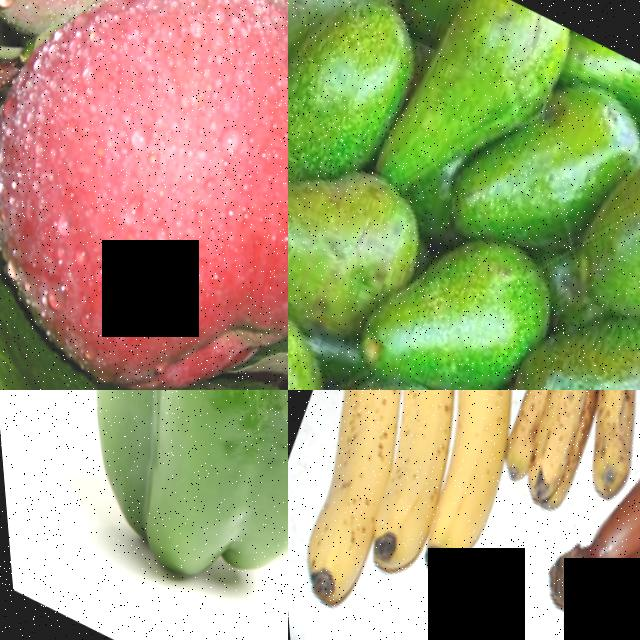apple: (0, 0, 288, 390)
avocado: (343, 0, 587, 239), (423, 30, 640, 296), (331, 179, 568, 390), (288, 110, 442, 352), (288, 0, 443, 211), (473, 247, 640, 390), (555, 66, 640, 336), (288, 309, 481, 390), (288, 0, 371, 76)
banana: (288, 390, 605, 640), (515, 390, 640, 640), (472, 390, 640, 543)
bell pepper: (0, 390, 288, 640)
